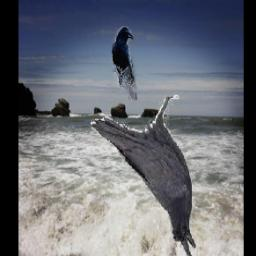Crow: (91, 96, 196, 256), (113, 26, 138, 100)
